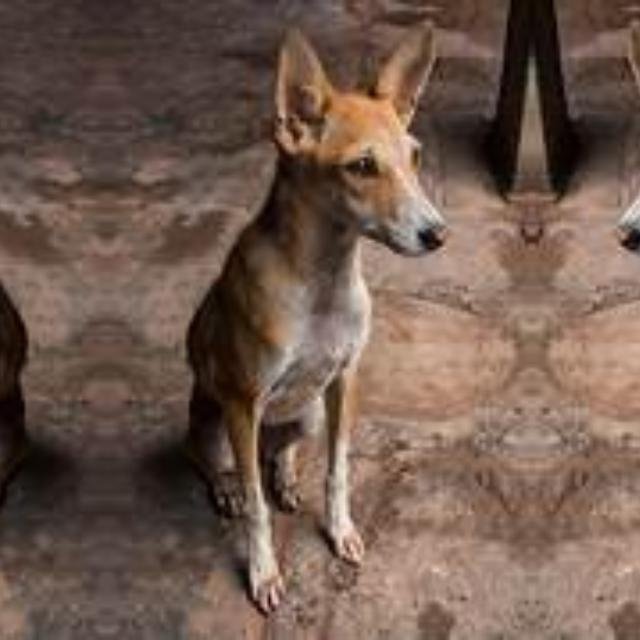dog: (155, 50, 485, 640), (0, 50, 60, 640), (581, 50, 640, 640)
